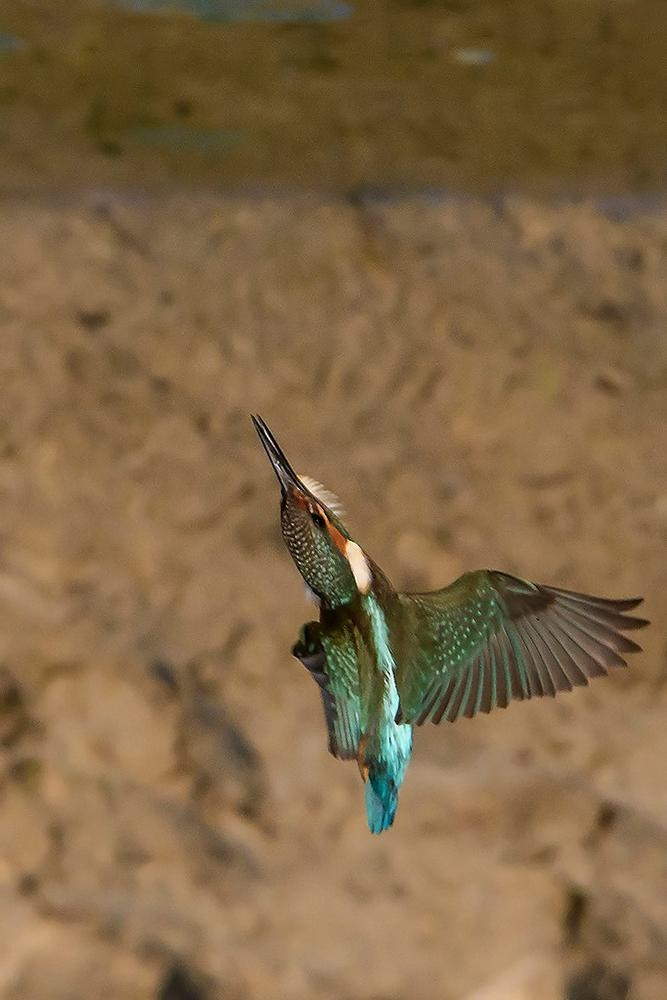kingfisher: (258, 411, 667, 836)
